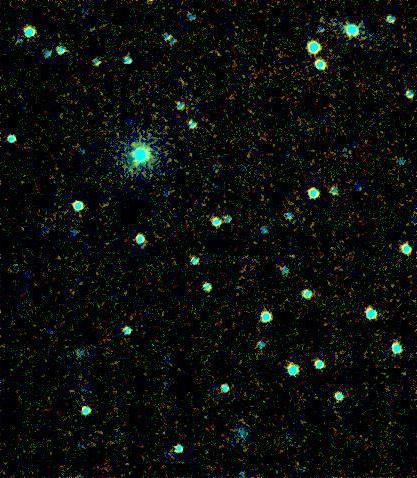star: (117, 128, 147, 158)
